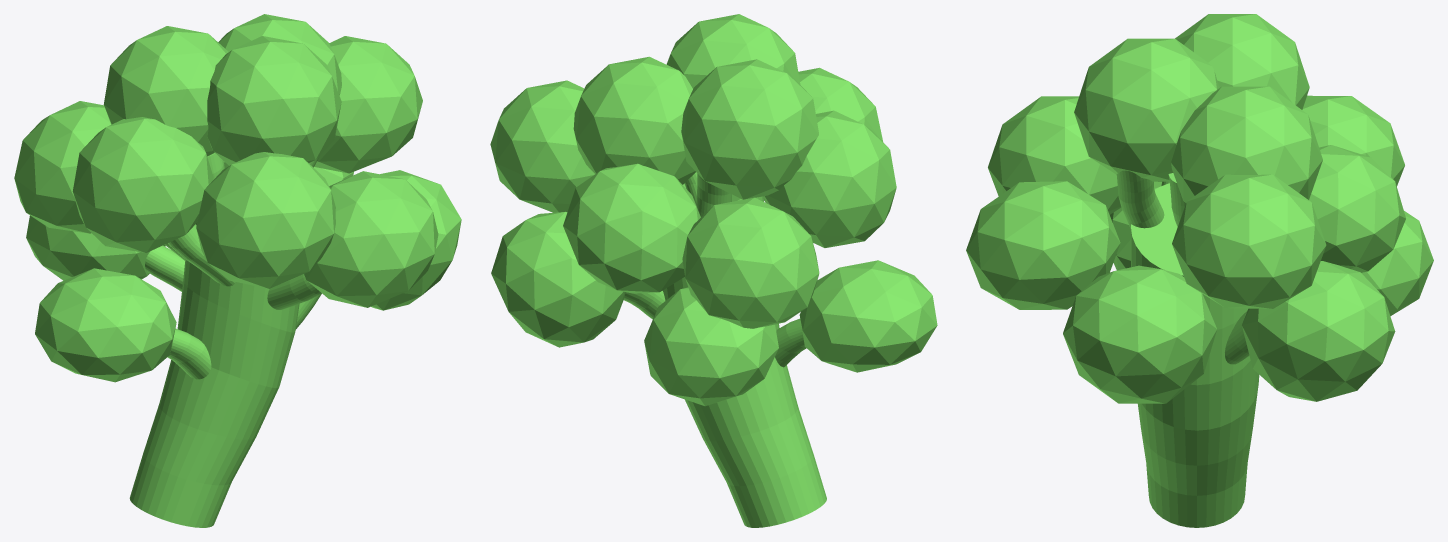
File: brocoli light.fbx
3 views of the same model, side by side, from view 1: azimuth 30°, elevation 25°; view 2: azimuth 150°, elevation 25°; view 3: azimuth 270°, elevation 25° (orthographic). The views are drawn at different scales.
Parts seen in each view (by area): view 1: brocolli.001; view 2: brocolli.001; view 3: brocolli.001.
Boxes of the visible parts, x1,y1,x2,y2 form: brocolli.001: (14,14,461,527); brocolli.001: (490,14,937,527); brocolli.001: (966,14,1433,527).
Bounding box in the file's own units: 85.13 × 97.5 × 81.59.
